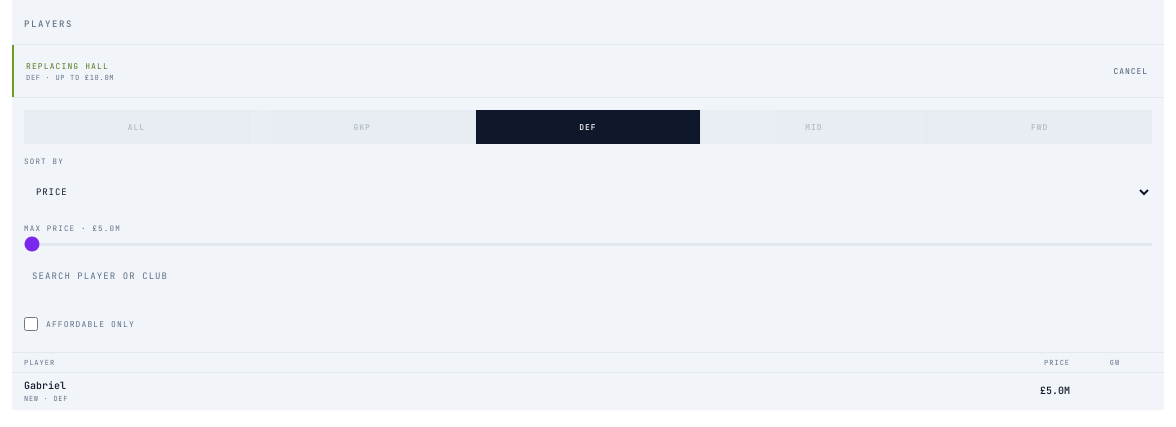
Test: searching for a player the list hides › says a player is already in your squad rather than hiding him silently
Type "saka" into the field named "Search players" at (588, 276), box x1=24 y1=258 x2=1152 y2=296
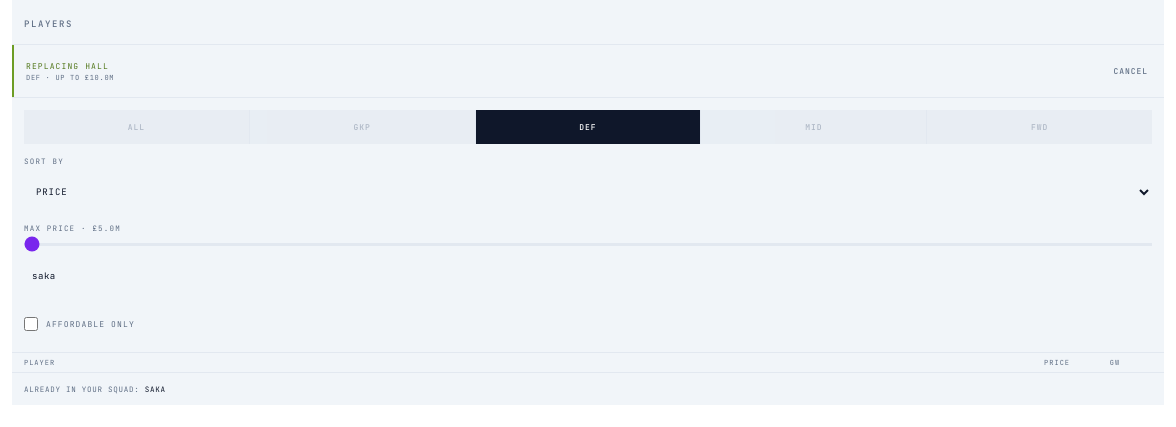
Expected: the text "ALREADY IN YOUR SQUAD:" is shown, x1=24 y1=384 x2=140 y2=394
Expected: the text "SAKA" is shown, x1=145 y1=384 x2=166 y2=394
